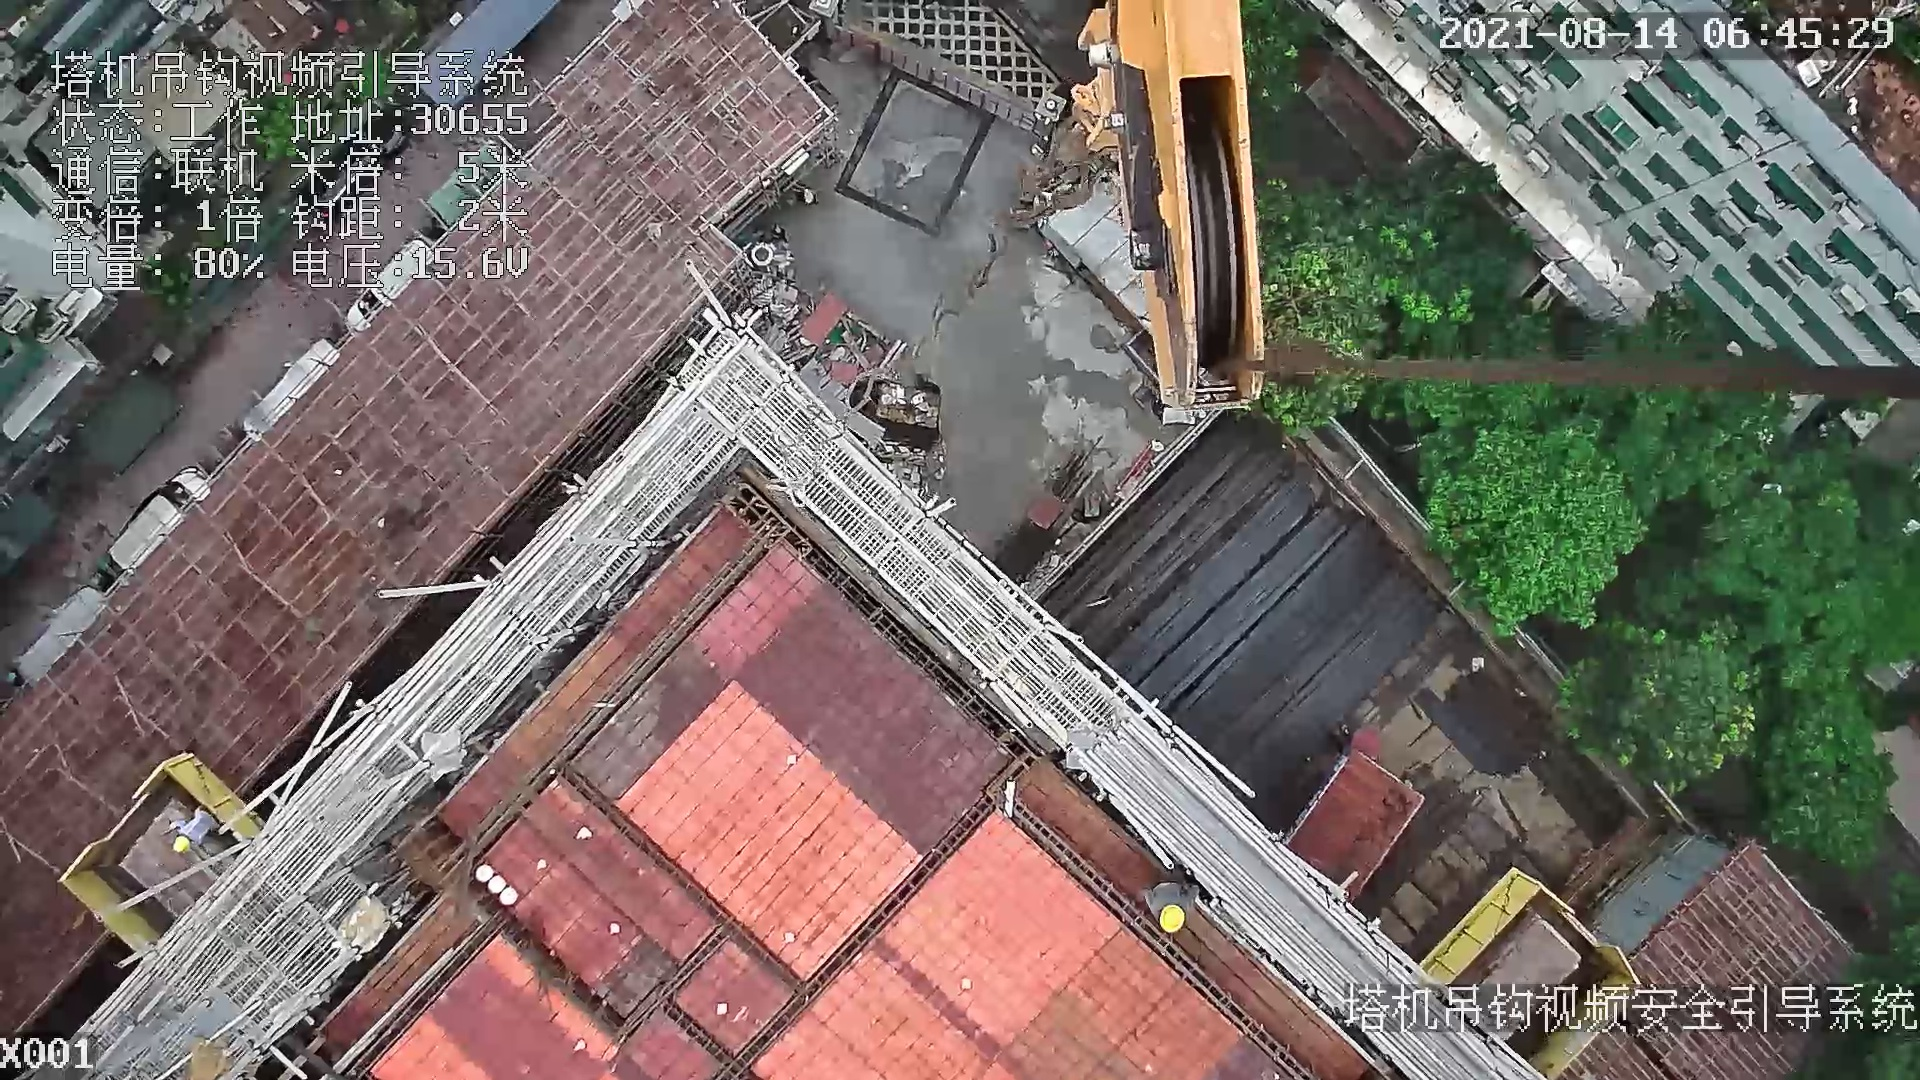board: (1464, 905, 1582, 1048)
helmet: (1158, 905, 1191, 931), (173, 836, 193, 852)
hook: (1070, 1, 1278, 409)
person: (1144, 878, 1210, 936), (168, 800, 222, 858)
